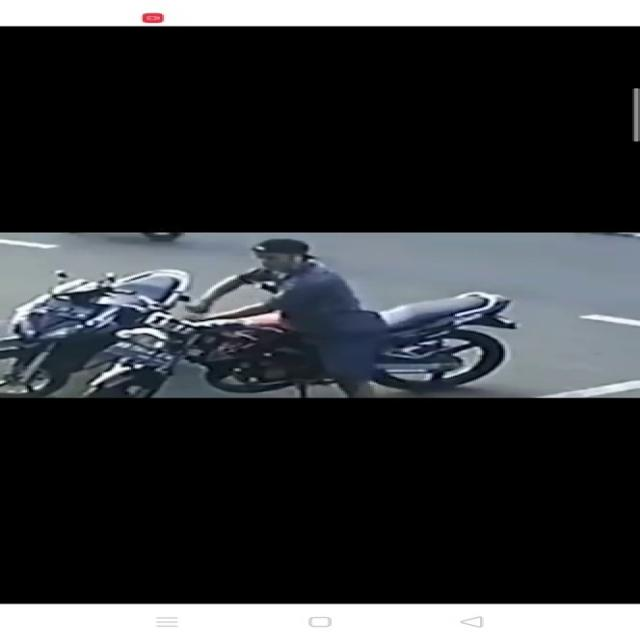pencurian: (106, 239, 524, 394)
